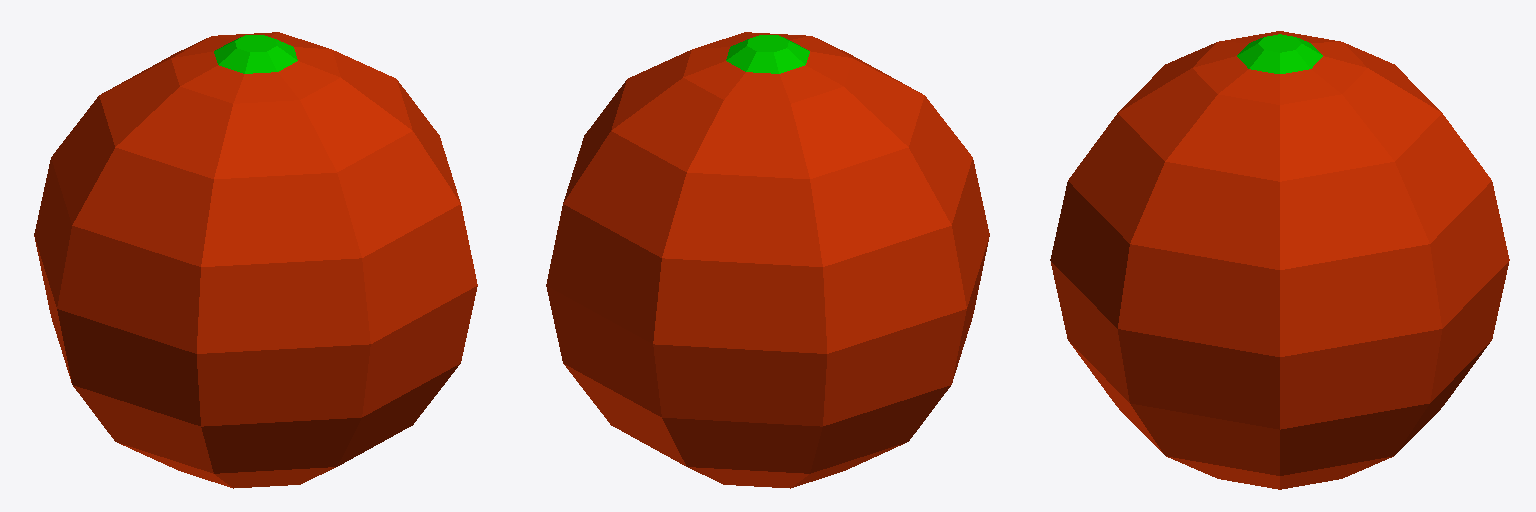
File: grapefruit_clr.obj
The picture shows the model from 3 angles: view 1: azimuth 30°, elevation 25°; view 2: azimuth 150°, elevation 25°; view 3: azimuth 270°, elevation 25°; orthographic projection.
Parts seen in each view (by area): view 1: Grapefruit; view 2: Grapefruit; view 3: Grapefruit.
Boxes of the visible parts, box(x1,y1,x2,y2) form: Grapefruit: box(34, 32, 477, 488); Grapefruit: box(546, 32, 989, 488); Grapefruit: box(1050, 31, 1509, 489).
Bounding box in the file's own units: 3.82 × 3.9 × 3.82.